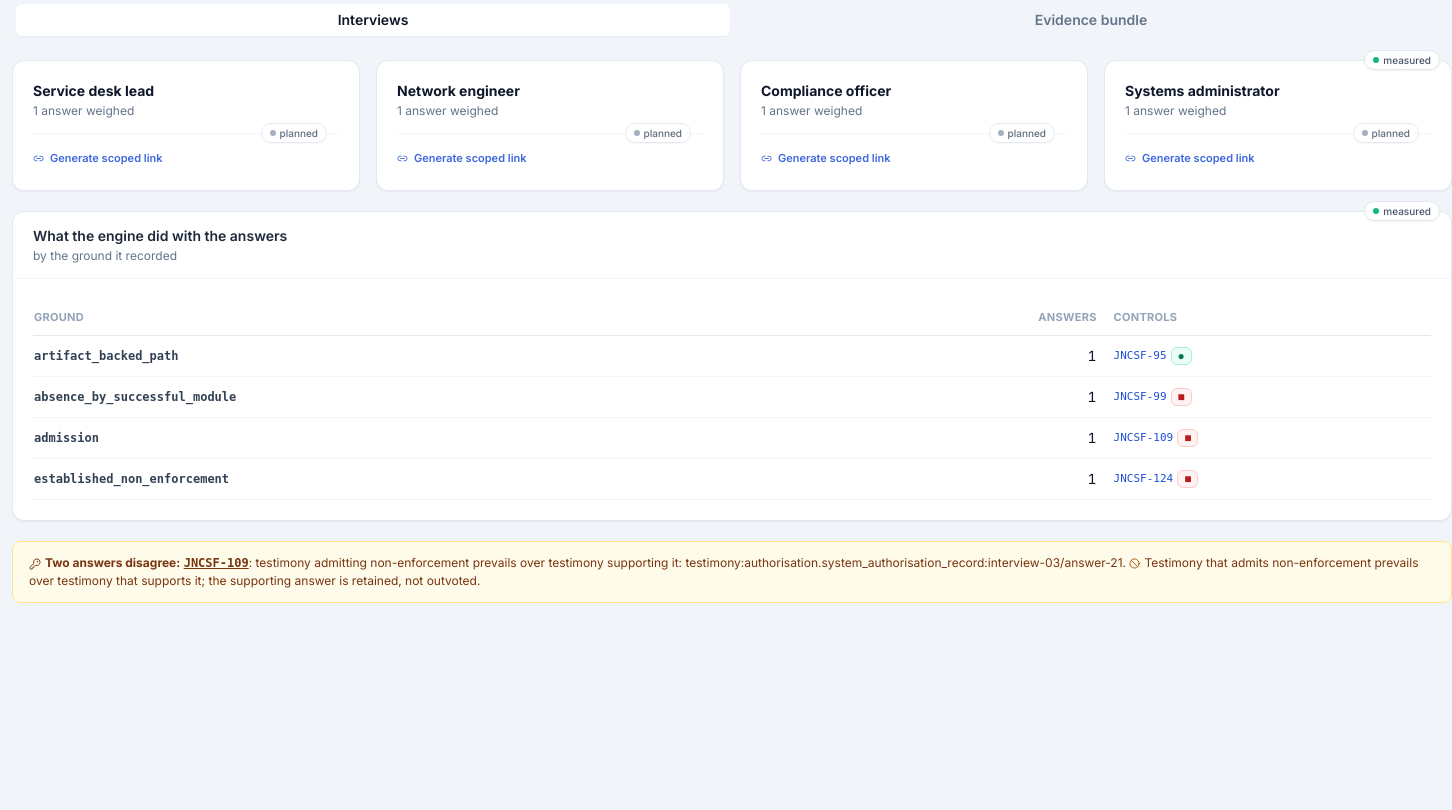
Test: testimony: the respondents and what the engine did with their answers › the one answer that is not about a Gap is shown with its measured state (Compliant), not hidden or dressed
Click the button with test id "respondent-service-desk-lead" at (94, 100), box [33, 81, 154, 119]
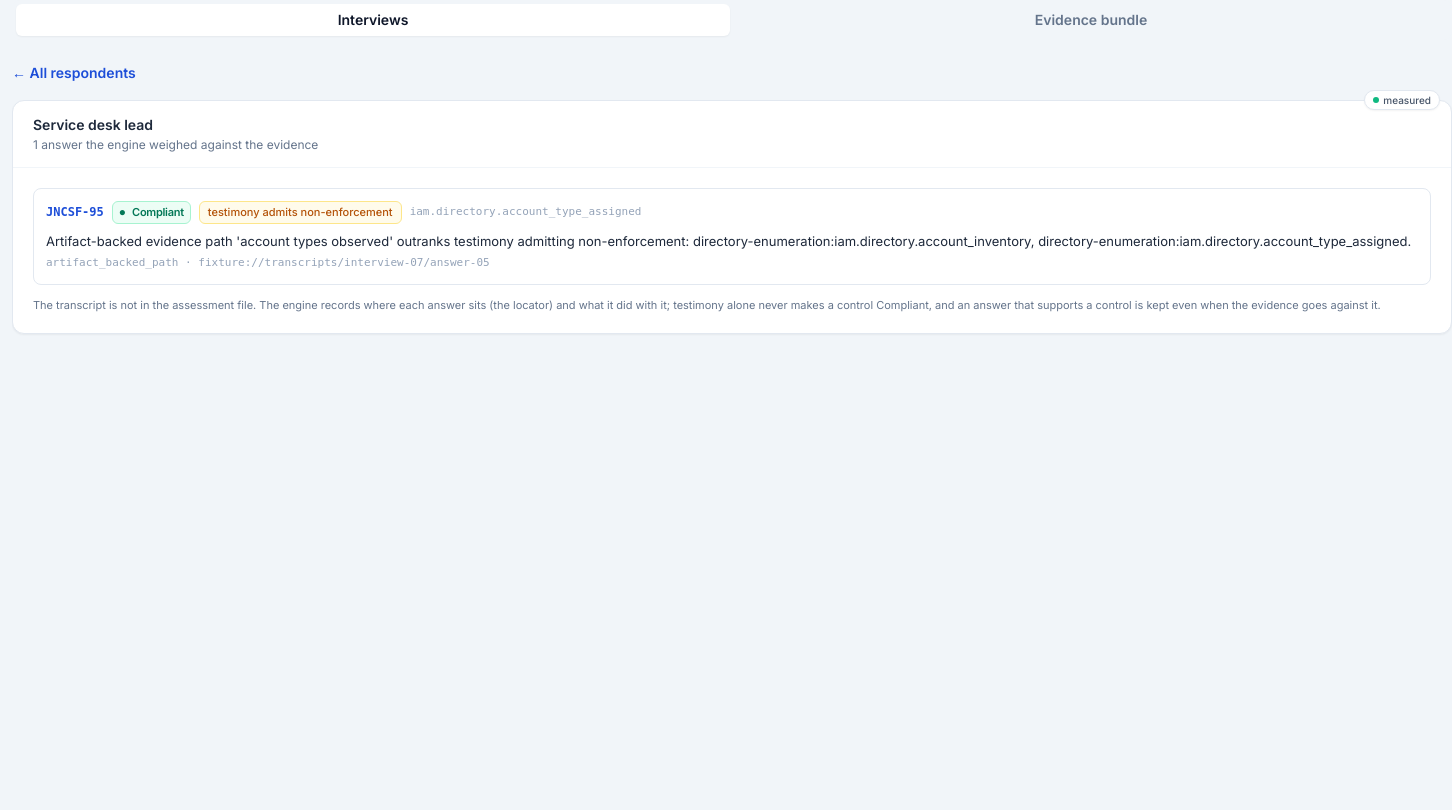
Expected: the element with test id "testimony-JNCSF-95" shows "Compliant", [132, 205, 184, 219]
